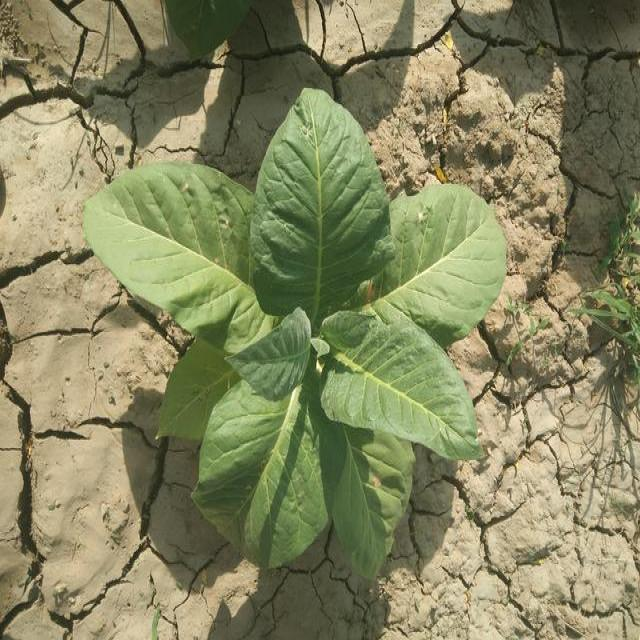crop: (83, 106, 512, 580)
